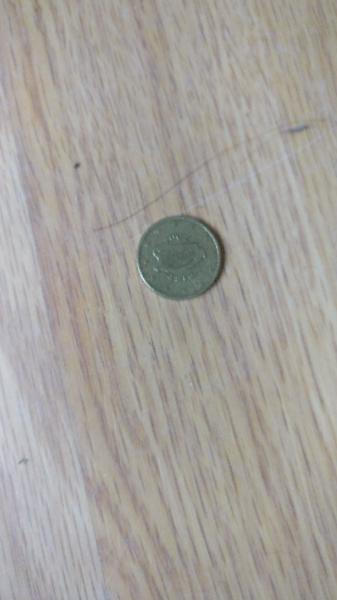Ten Cent: (133, 213, 240, 302)
